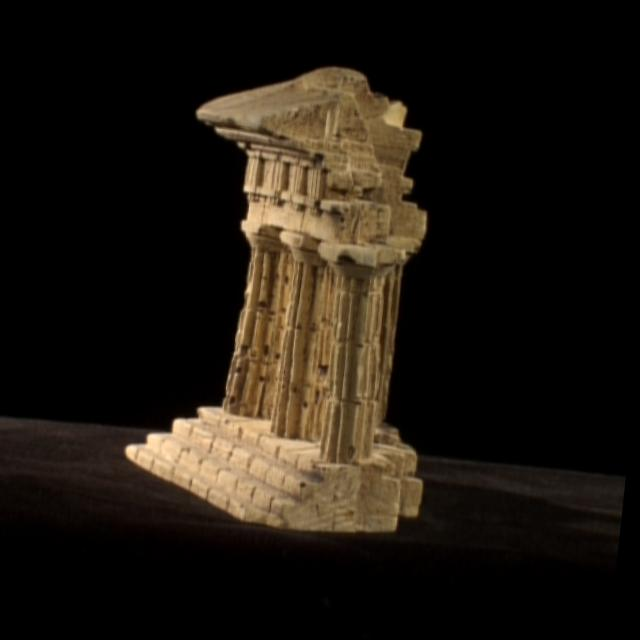Instance-Segmentation: (125, 68, 425, 532)
